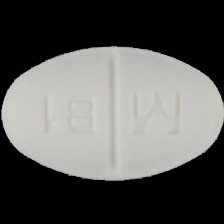51079-985: (0, 0, 224, 224)
